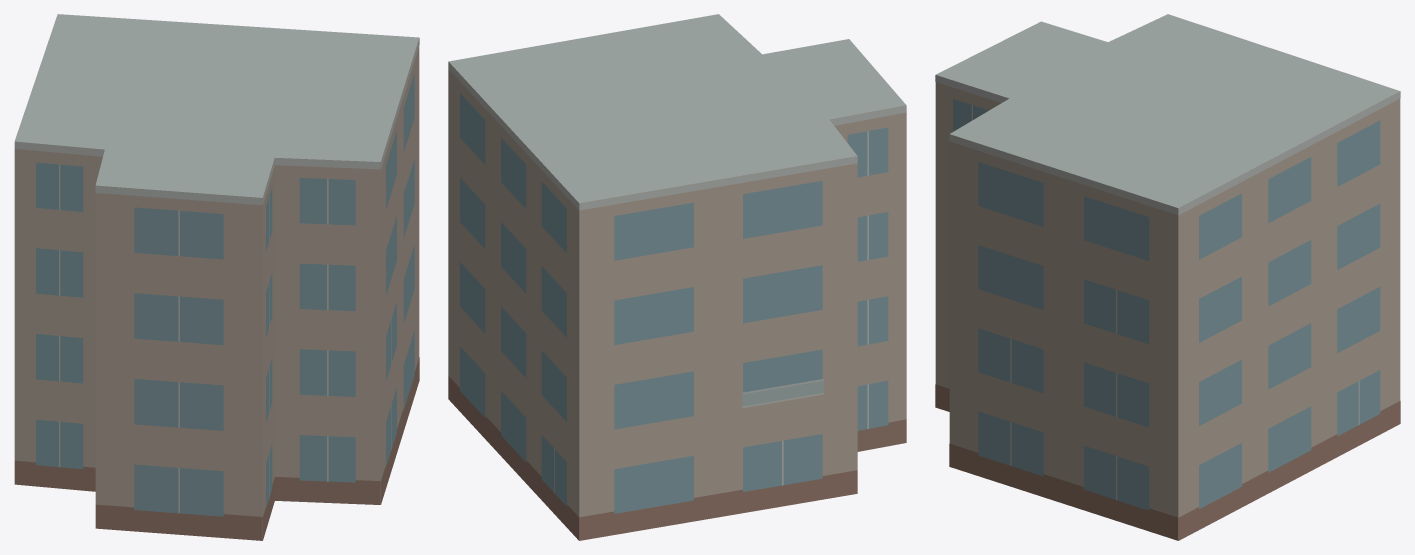
The model's file is survey-upis-32855749.glb.
The picture shows the model from 3 angles, left to right: view 1: azimuth 30°, elevation 25°; view 2: azimuth 150°, elevation 25°; view 3: azimuth 270°, elevation 25°; orthographic projection. The views are drawn at different scales.
Visible parts, largest first — view 1: survey-upis-32855749.tmp; view 2: survey-upis-32855749.tmp; view 3: survey-upis-32855749.tmp.
Part boxes in pixels (<box>): survey-upis-32855749.tmp: <box>14,14,419,540</box>; survey-upis-32855749.tmp: <box>448,14,906,540</box>; survey-upis-32855749.tmp: <box>935,14,1400,540</box>.
Bounding box in the file's own units: 14.22 × 11.35 × 14.39.
